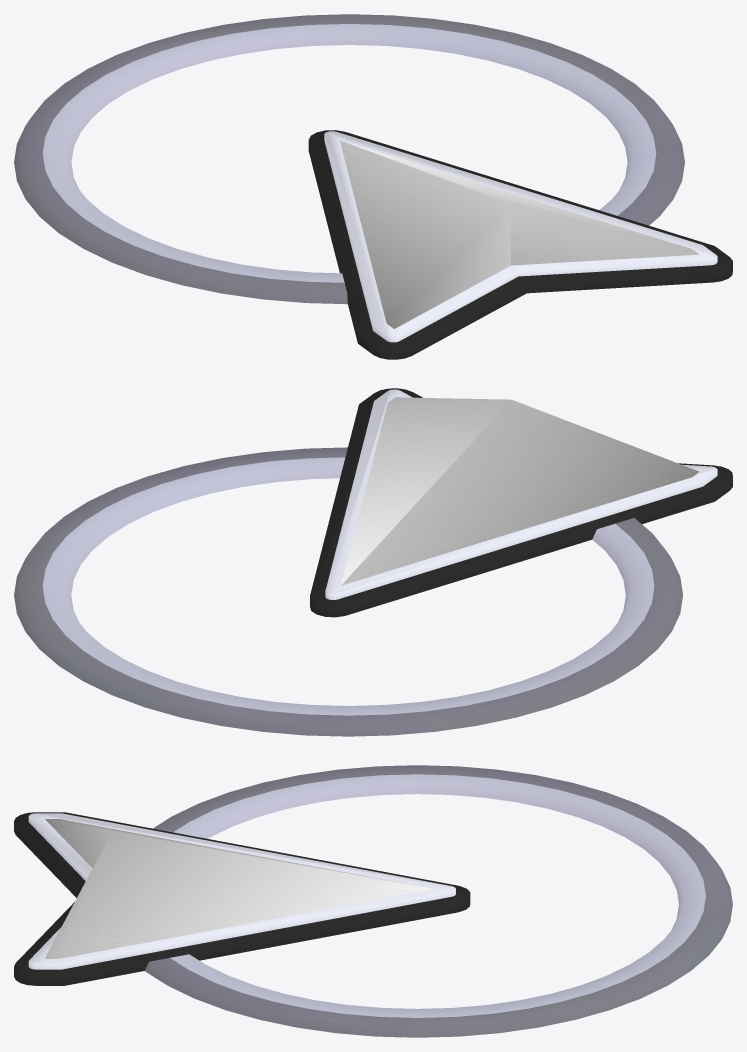
Rendered from porsche_3d-puck_gray.glb.
3 views of the same model, one above another, from view 1: azimuth 30°, elevation 25°; view 2: azimuth 150°, elevation 25°; view 3: azimuth 270°, elevation 25° (orthographic). The views are drawn at different scales.
Parts seen in each view (by area): view 1: porsche_3d-puck_gray; view 2: porsche_3d-puck_gray; view 3: porsche_3d-puck_gray.
Part boxes in pixels (bbox=[...]): porsche_3d-puck_gray: bbox=[14, 14, 732, 359]; porsche_3d-puck_gray: bbox=[14, 388, 732, 736]; porsche_3d-puck_gray: bbox=[14, 765, 732, 1037].
Size of the model in its own units: 85.2 by 10.86 by 97.14.
Materials: 1 (1 with a texture image).
